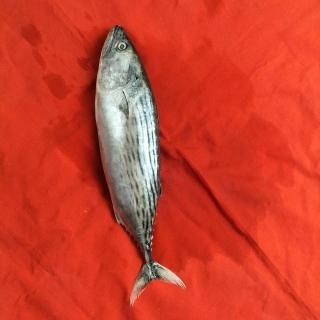Ikan: (87, 23, 191, 305)
